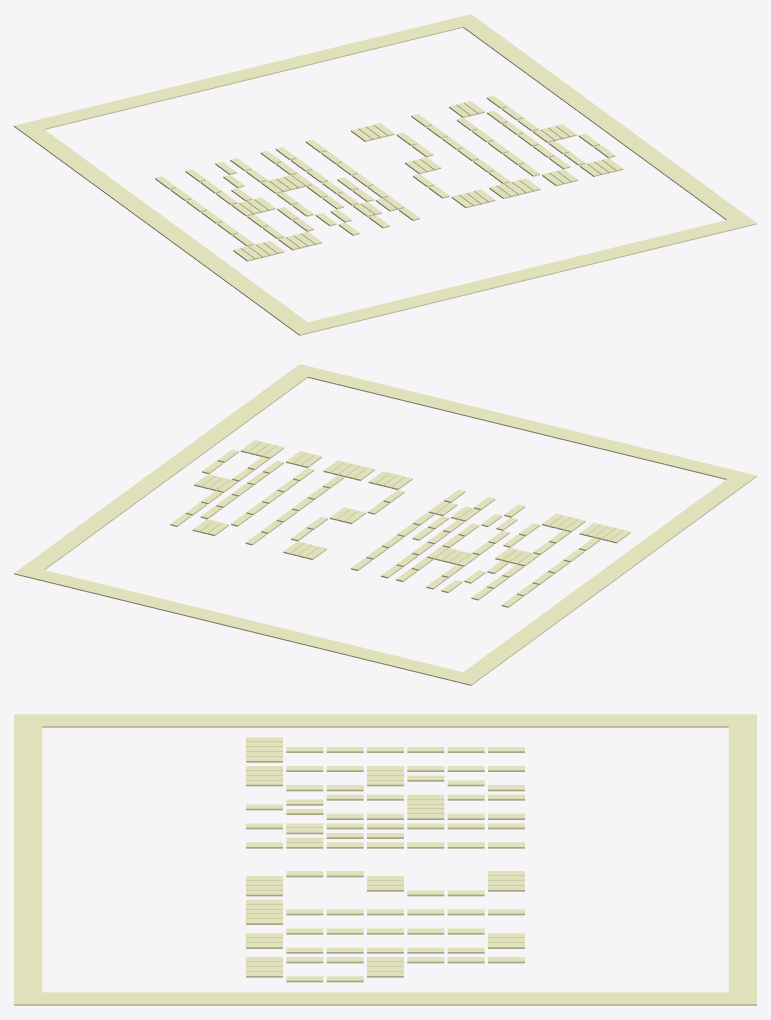
File: marking_tram_stop_box_white.glb
3 renders of one model, top to bottom at view 1: azimuth 30°, elevation 25°; view 2: azimuth 150°, elevation 25°; view 3: azimuth 270°, elevation 25°, orthographic. The views are drawn at different scales.
Visible parts, largest first — view 1: tram_stop_box_bottom, tram_stop_box_top, tram_stop_box_left, tram_stop_box_right; view 2: tram_stop_box_top, tram_stop_box_bottom, tram_stop_box_left, tram_stop_box_right; view 3: tram_stop_box_left, tram_stop_box_right, tram_stop_box_top, tram_stop_box_bottom.
Boxes of the visible parts, x1,y1,x2,y2 form: tram_stop_box_bottom: (289,215,756,335); tram_stop_box_top: (14,14,481,134); tram_stop_box_left: (25,129,307,327); tram_stop_box_right: (463,22,745,219); tram_stop_box_top: (14,565,481,685); tram_stop_box_bottom: (289,364,756,484); tram_stop_box_left: (463,479,745,677); tram_stop_box_right: (25,372,307,569); tram_stop_box_left: (42,714,728,727); tram_stop_box_right: (42,992,728,1005); tram_stop_box_top: (728,714,756,1005); tram_stop_box_bottom: (14,714,42,1005).
Bounding box in the file's own units: 2.18 × 0.006 × 2.36.
